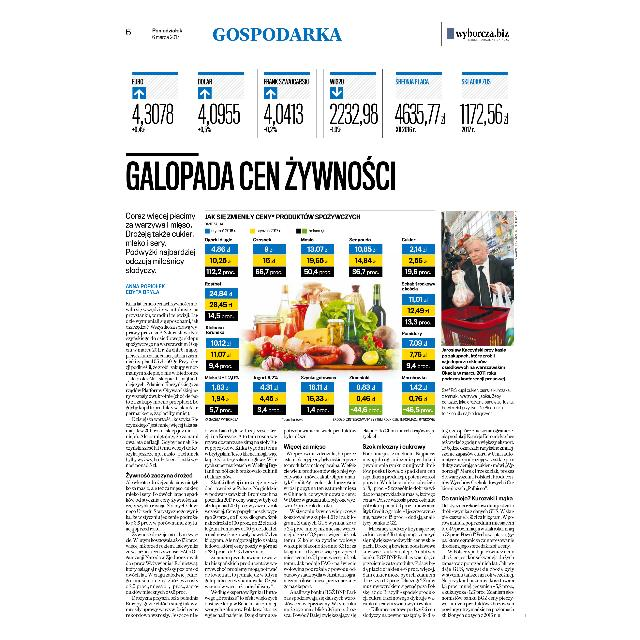article: (124, 152, 518, 622)
